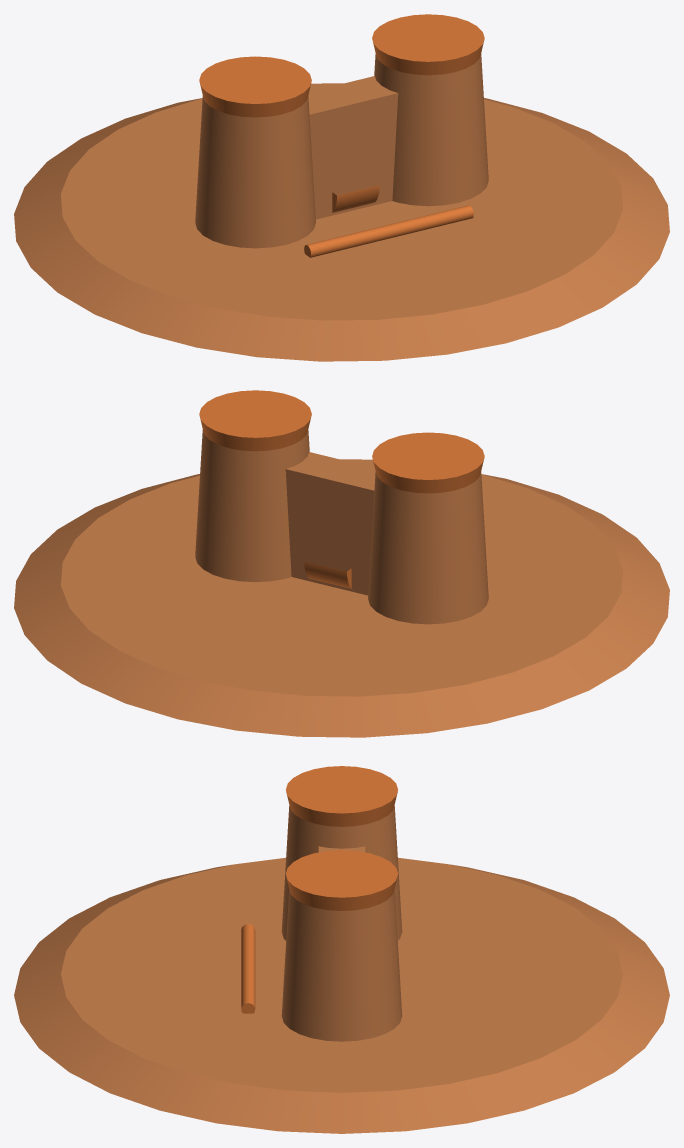
Rendered from otyrar.glb.
3 renders of one model, top to bottom at view 1: azimuth 30°, elevation 25°; view 2: azimuth 150°, elevation 25°; view 3: azimuth 270°, elevation 25°, orthographic.
Size of the model in its own units: 56 by 15.4 by 56.
